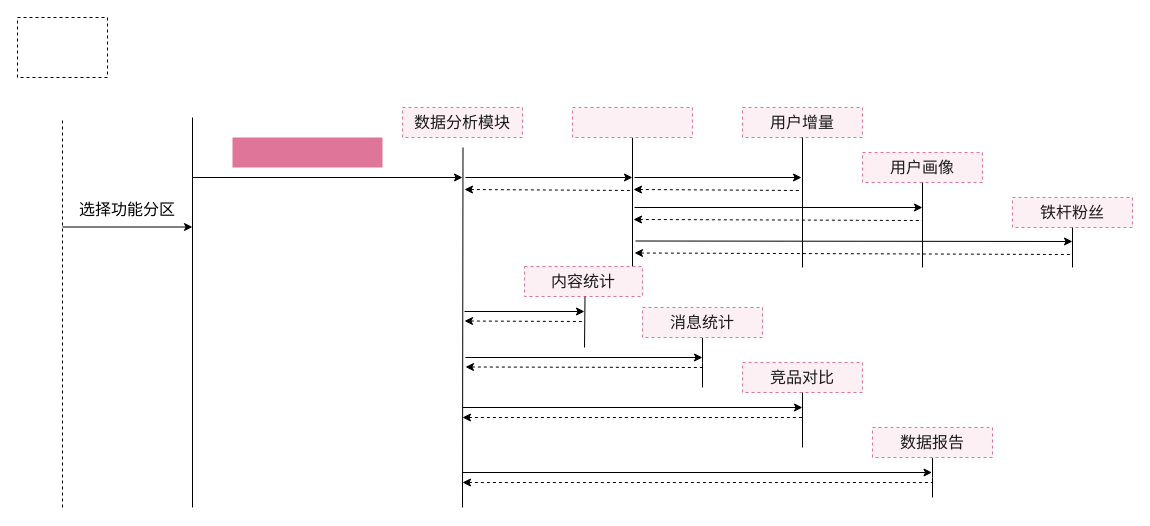
This 1150x526 diagram has some shape labels left out. The shapes that lost their labels are listed below. From the top down, each one's centre as x and y in pixels, then its label:
At point (62, 47): "用户登录".
At point (632, 122): "自营账号数据".
At point (307, 152): "查看数据分析".
